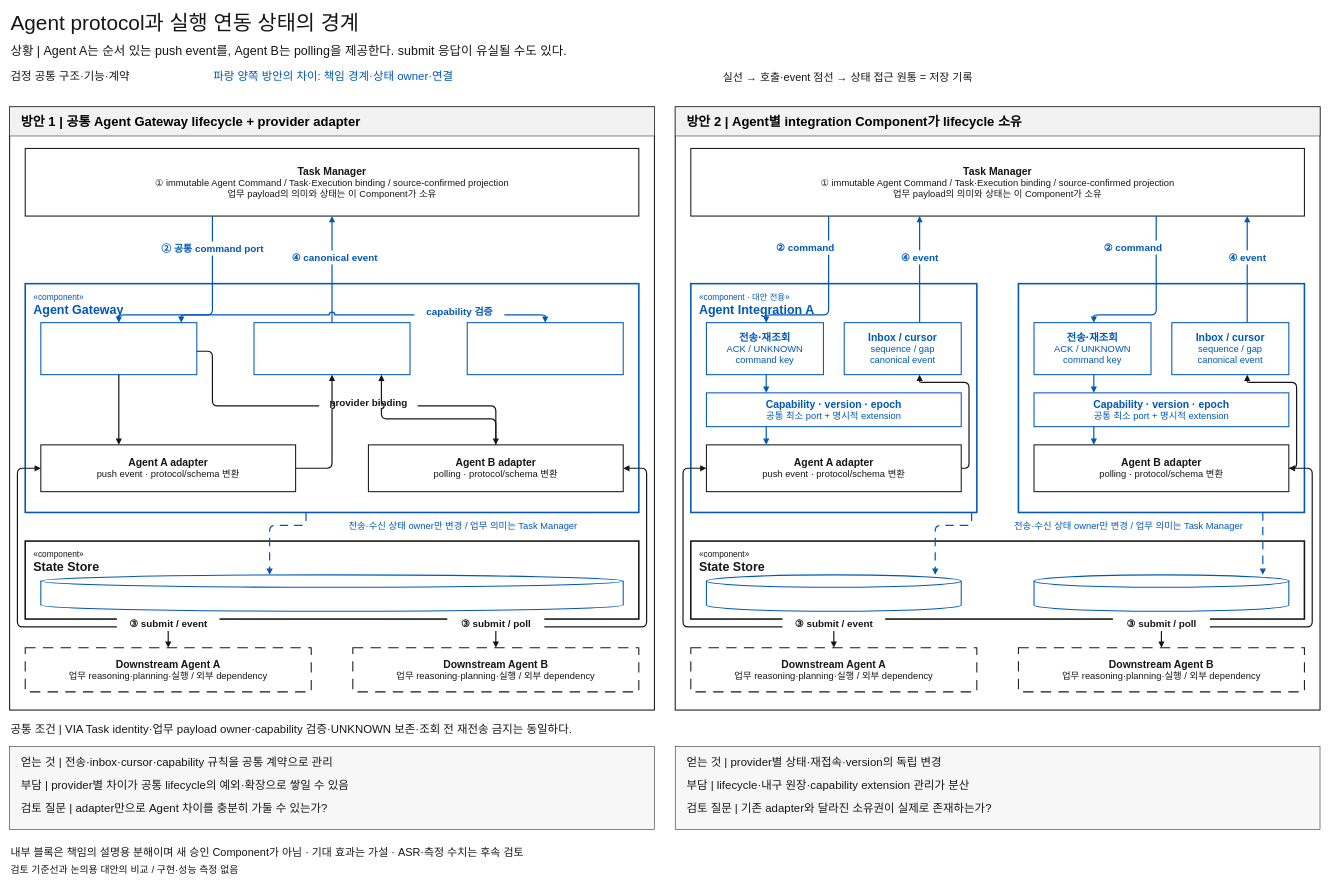
Image size: 1329x886. Some labels were removed from this diagram. Each missing label, with the box of its shape:
Agent A delivery · inbox · cursor: (706, 574, 961, 612)
Agent B delivery · inbox · cursor: (1033, 574, 1289, 612)
Capability profile 제어·query·idempotency profile revision: (466, 322, 623, 375)
Inbox / cursor 중복·gap·source sequence canonical Agent Event: (253, 322, 410, 375)
«component · 대안 전용» Agent Integration B: (1017, 283, 1305, 513)
공통 delivery attempt · inbox · cursor / command ID로 Task payload와 연결: (40, 574, 623, 612)
전송 상태·재조회 PENDING → DISPATCHING ACK / UNKNOWN · key 조회: (40, 322, 197, 375)
